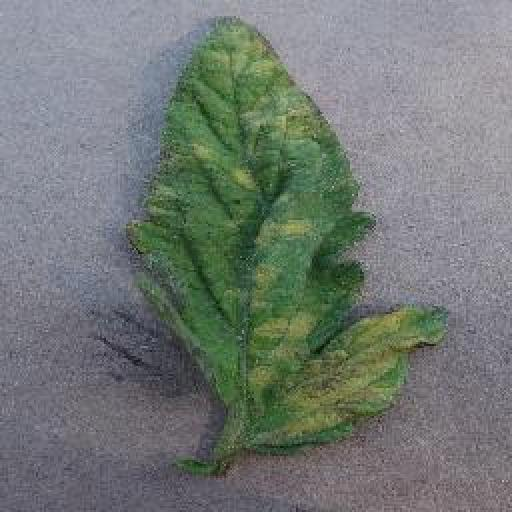disease_tomato: (130, 14, 450, 452)
